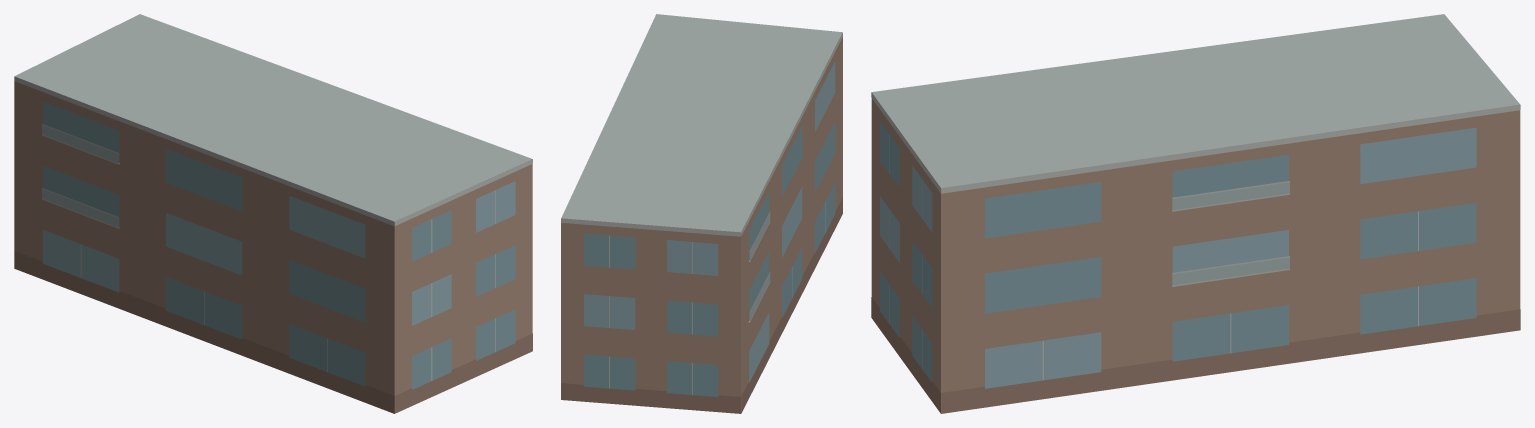
File: survey-upis-32493536.glb
The picture shows the model from 3 angles, left to right: view 1: azimuth 30°, elevation 25°; view 2: azimuth 150°, elevation 25°; view 3: azimuth 270°, elevation 25°; orthographic projection. The views are drawn at different scales.
Visible parts, largest first — view 1: survey-upis-32493536.tmp; view 2: survey-upis-32493536.tmp; view 3: survey-upis-32493536.tmp.
Part boxes in pixels (x1,y1,x2,y2): survey-upis-32493536.tmp: (14, 14, 532, 413); survey-upis-32493536.tmp: (561, 14, 842, 413); survey-upis-32493536.tmp: (871, 14, 1520, 413).
Size of the model in its own units: 16.4 by 9.9 by 25.81.
